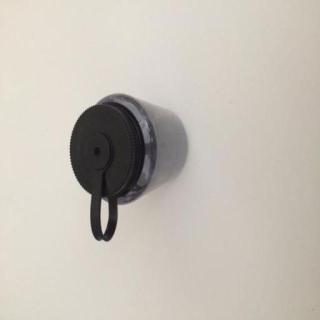Plastic-bottle: (70, 92, 160, 242)
